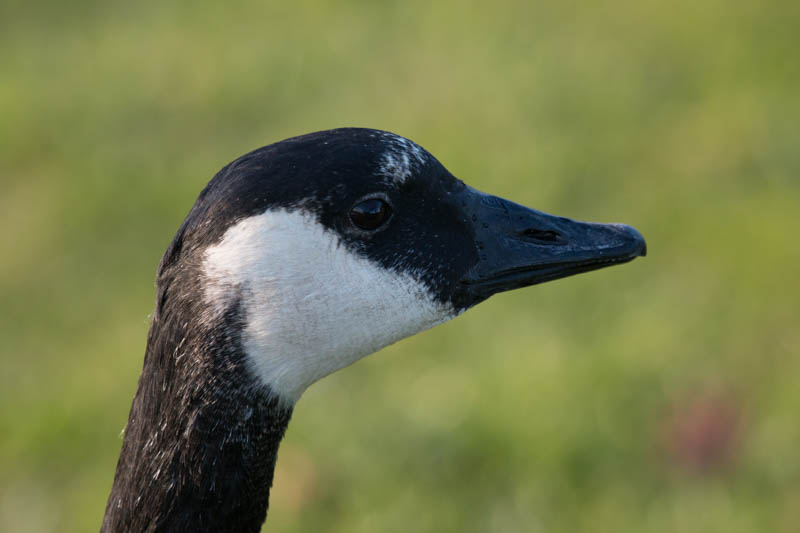goose-head: (156, 127, 648, 409)
